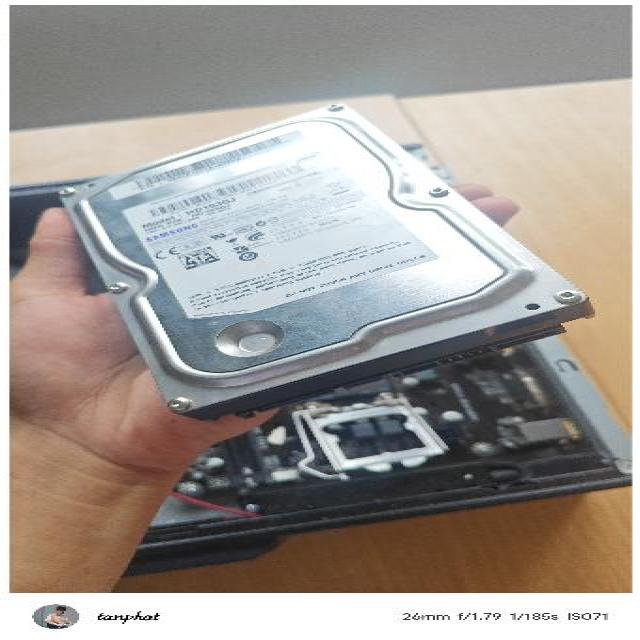DISK: (54, 94, 602, 424)
